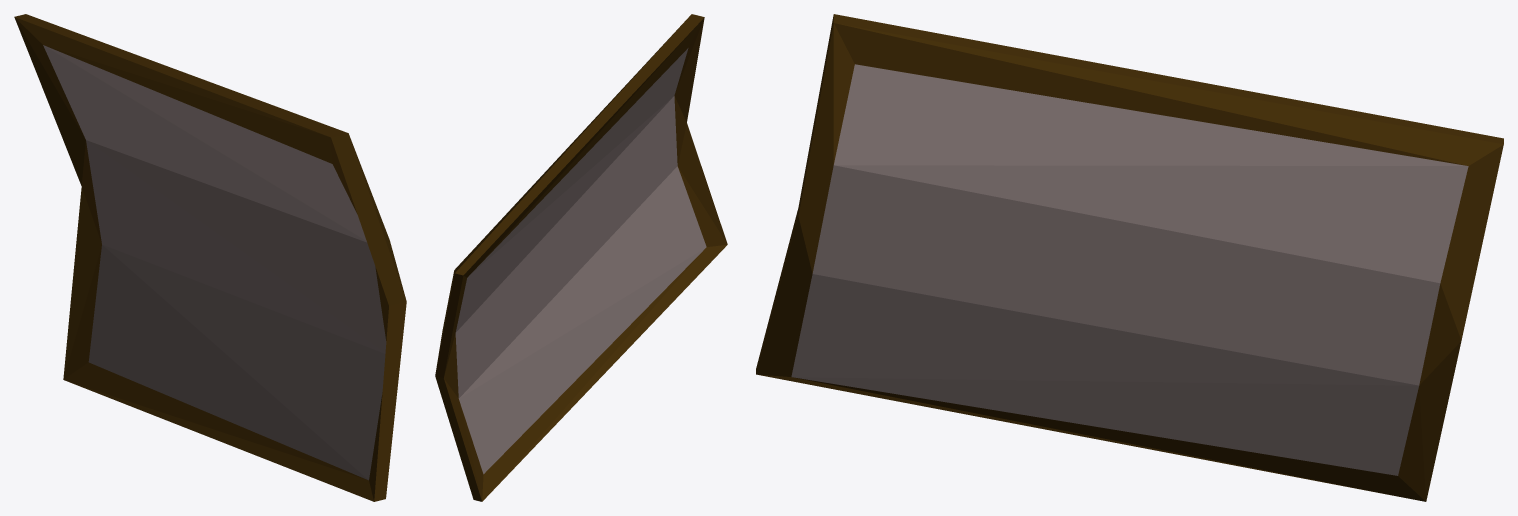
Rendered from model_541_obj_wear.obj.
3 renders of one model, left to right at view 1: azimuth 30°, elevation 25°; view 2: azimuth 150°, elevation 25°; view 3: azimuth 270°, elevation 25°, orthographic. The views are drawn at different scales.
Parts seen in each view (by area): view 1: 541; view 2: 541; view 3: 541.
Boxes of the visible parts, x1,y1,x2,y2 form: 541: (14, 14, 406, 501); 541: (435, 14, 727, 501); 541: (756, 14, 1503, 501).
Bounding box in the file's own units: 11 × 74 × 106.
